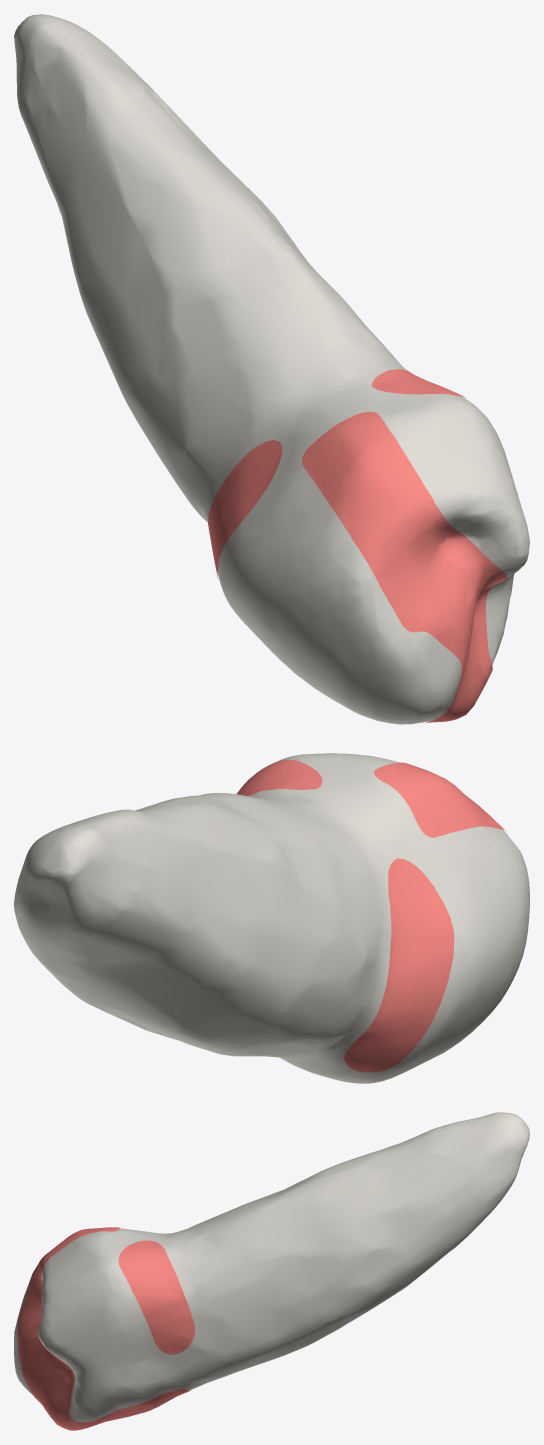
File: tooth_44_FMA55694.glb
3 views of the same model, one above another, from view 1: azimuth 30°, elevation 25°; view 2: azimuth 150°, elevation 25°; view 3: azimuth 270°, elevation 25° (orthographic). The views are drawn at different scales.
Parts seen in each view (by area): view 1: tooth_44, class2_distal, class5_facial, class2_mesial, class1, class5_lingual, class2_mesial_distal; view 2: tooth_44, class5_facial, class2_distal, class5_lingual; view 3: tooth_44, class5_lingual, class2_mesial, class2_distal, class1.
Part boxes in pixels (x1,y1,x2,y2): tooth_44: (14,14,529,724); class2_distal: (302,411,501,660); class5_facial: (208,440,282,578); class2_mesial: (423,546,504,723); class1: (434,533,491,633); class5_lingual: (371,369,465,397); class2_mesial_distal: (454,540,507,676); tooth_44: (14,753,529,1083); class5_facial: (344,858,454,1072); class2_distal: (373,762,505,837); class5_lingual: (237,759,322,796); tooth_44: (14,1112,529,1422); class5_lingual: (118,1240,195,1354); class2_mesial: (21,1329,190,1430); class2_distal: (17,1227,119,1383); class1: (37,1340,73,1384).
Size of the model in its own units: 7.55 by 13.42 by 21.26.
